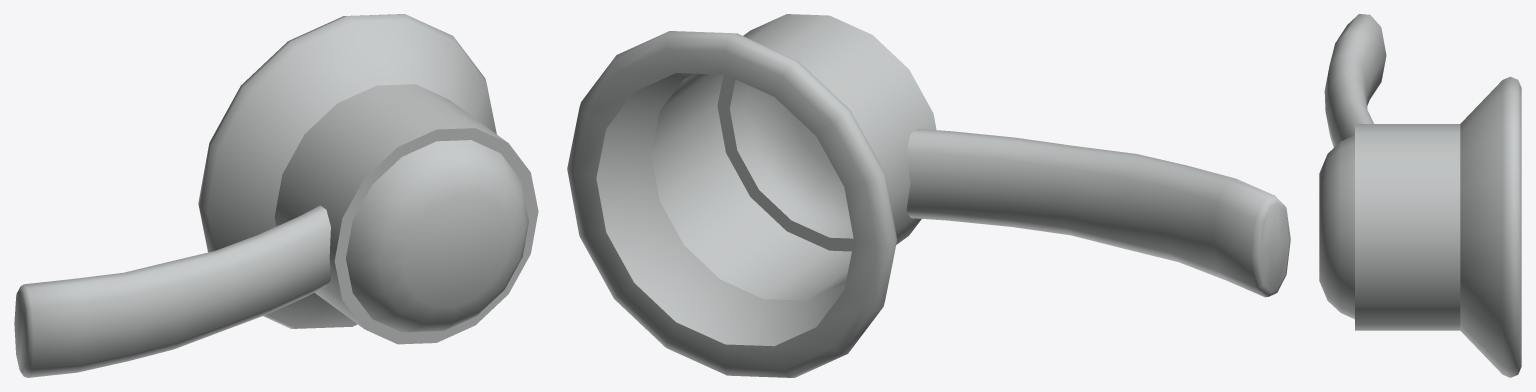
The model's file is MeshSinkFaucetKnobR_2_2.obj.
3 renders of one model, left to right at view 1: azimuth 30°, elevation 25°; view 2: azimuth 150°, elevation 25°; view 3: azimuth 270°, elevation 25°, orthographic. The views are drawn at different scales.
Parts seen in each view (by area): view 1: SinkFaucetKnobR_2; view 2: SinkFaucetKnobR_2; view 3: SinkFaucetKnobR_2.
Boxes of the visible parts, x1,y1,x2,y2 form: SinkFaucetKnobR_2: [14, 14, 538, 377]; SinkFaucetKnobR_2: [567, 14, 1290, 377]; SinkFaucetKnobR_2: [1319, 14, 1521, 377].
Size of the model in its own units: 0.1698 by 0.0898 by 0.0602.
